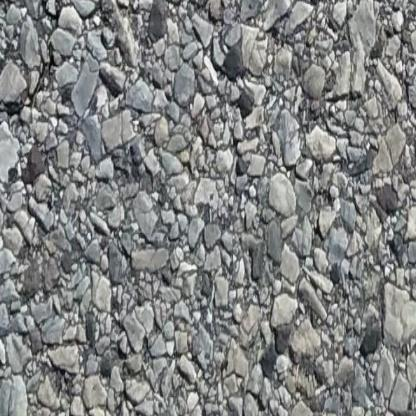Cracks: (0, 0, 66, 240), (0, 244, 9, 416)
